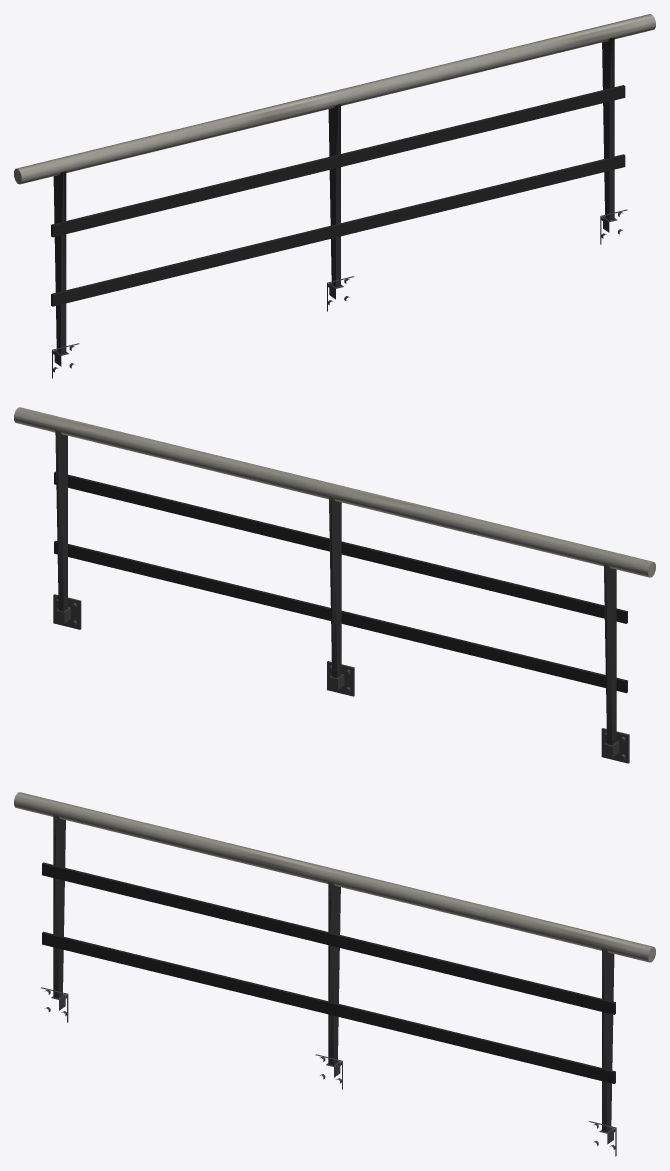
3 views of the same model, one above another, from view 1: azimuth 30°, elevation 25°; view 2: azimuth 150°, elevation 25°; view 3: azimuth 330°, elevation 25° (orthographic).
Parts seen in each view (by area): view 1: body0_model0_lod0_mesh0; view 2: body0_model0_lod0_mesh0; view 3: body0_model0_lod0_mesh0.
Part boxes in pixels (x1,y1,x2,y2): body0_model0_lod0_mesh0: (14,14,655,378); body0_model0_lod0_mesh0: (14,407,655,763); body0_model0_lod0_mesh0: (14,792,655,1156).
Bounding box in the file's own units: 136 × 43.49 × 3.82.
Materials: 1 (1 with a texture image).
